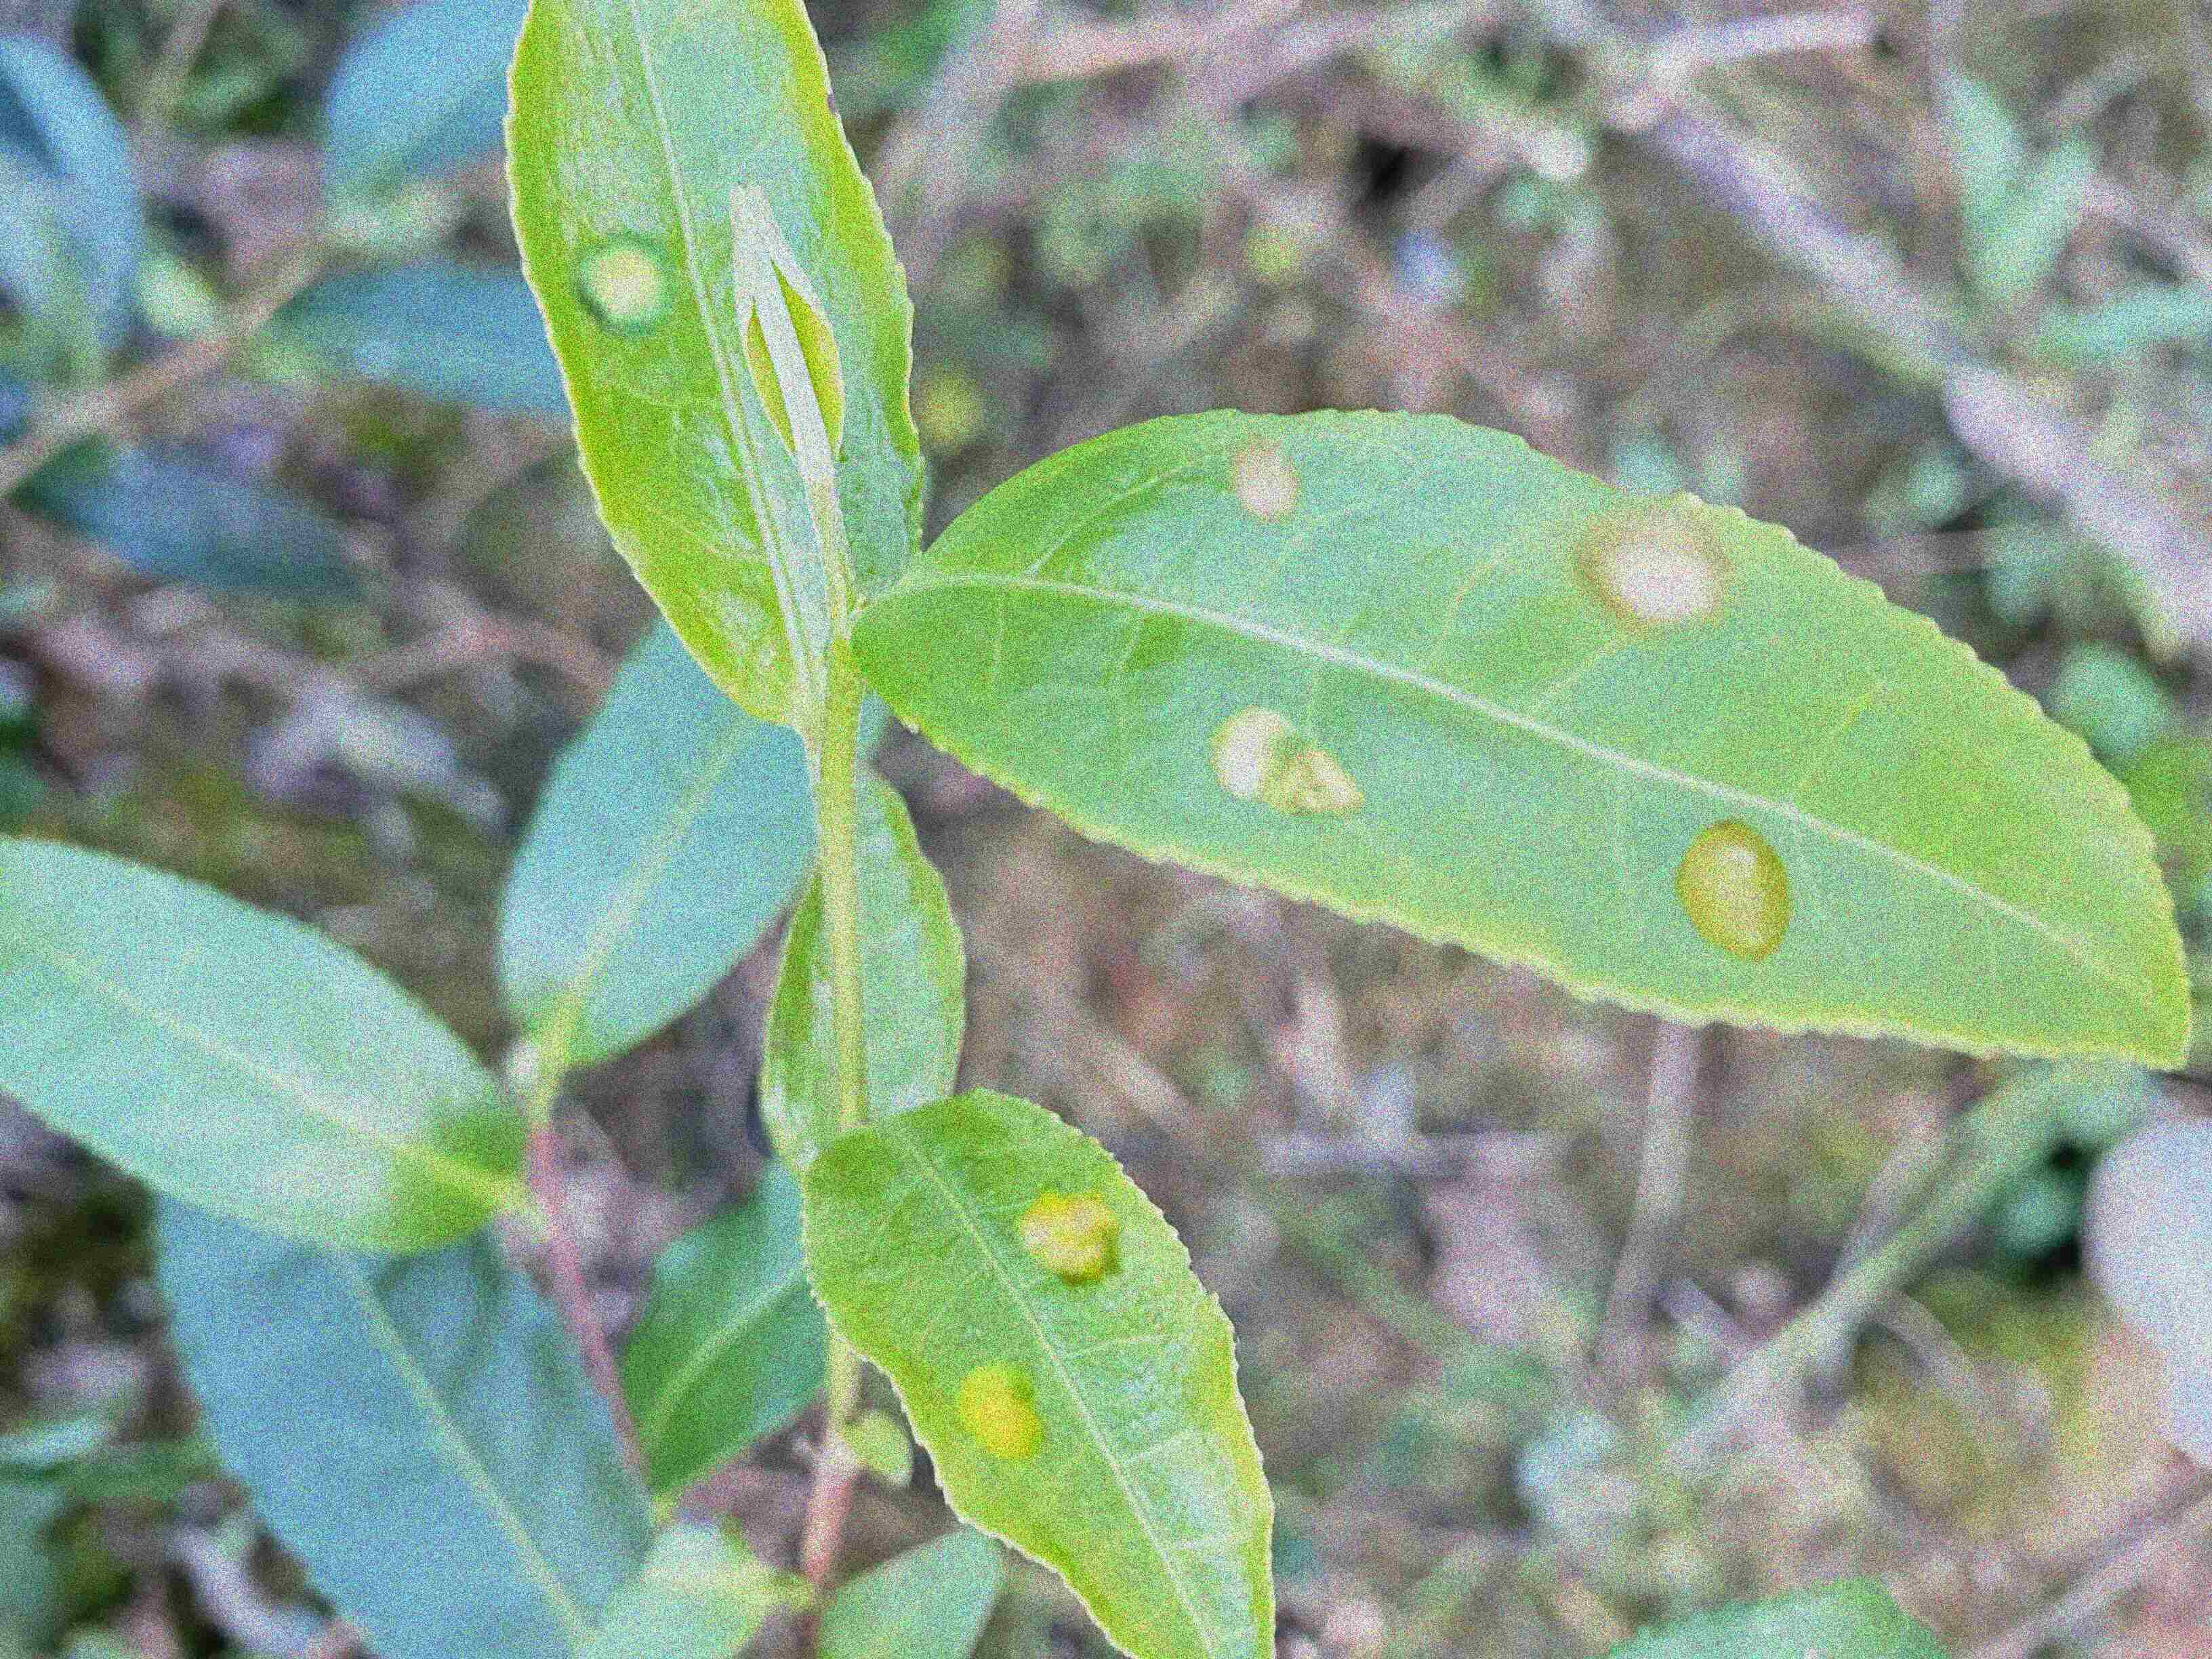chabing_high: (850, 404, 2189, 1070), (798, 1080, 1280, 1657)
chabing_low: (498, 7, 918, 739)
